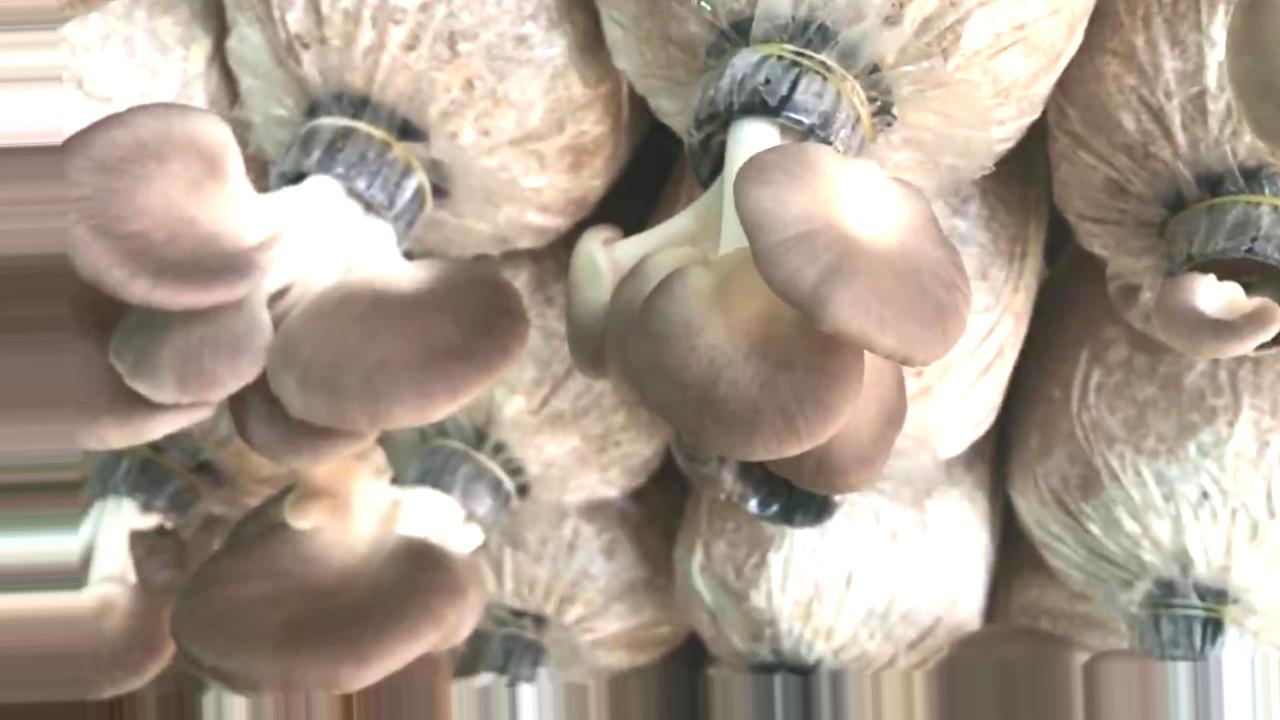nam: (1, 102, 528, 466), (566, 53, 970, 495), (177, 442, 529, 698), (1, 457, 181, 696), (1153, 181, 1280, 356)
